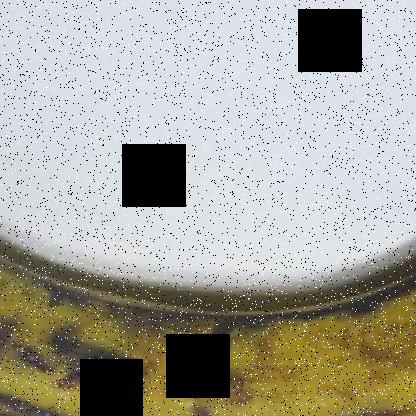overripe: (1, 217, 415, 415)
